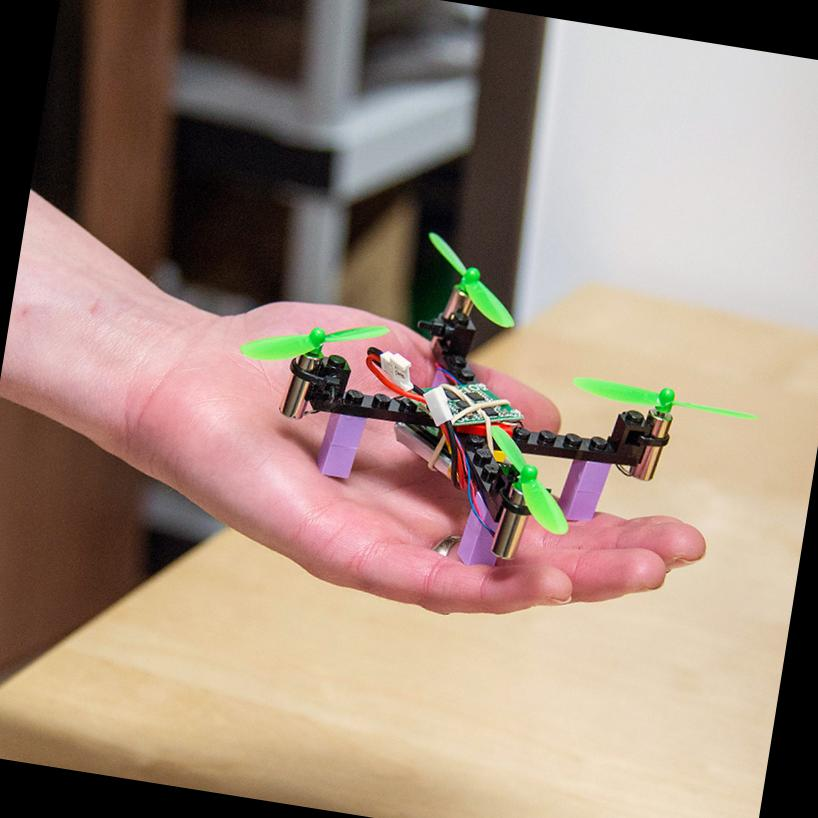drone: (204, 186, 796, 620)
